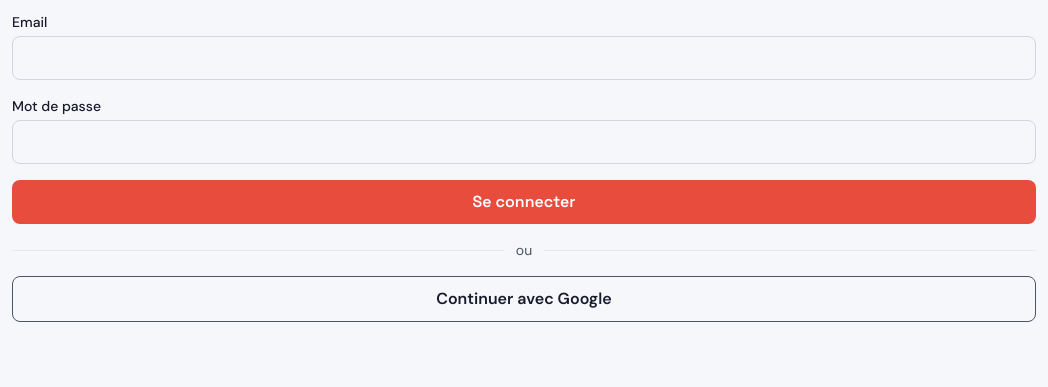
Test: LoginForm › shows error when fields are empty and form is submitted
The width and height of the screenshot is (1048, 387).
Click the button "Se connecter" at (524, 202), box x1=12 y1=180 x2=1036 y2=224
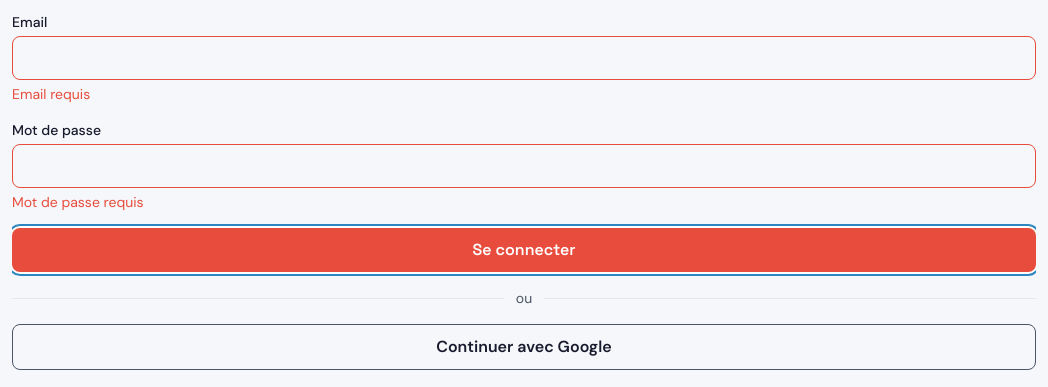
Expected: the text "Email requis" is shown, x1=12 y1=85 x2=90 y2=103
